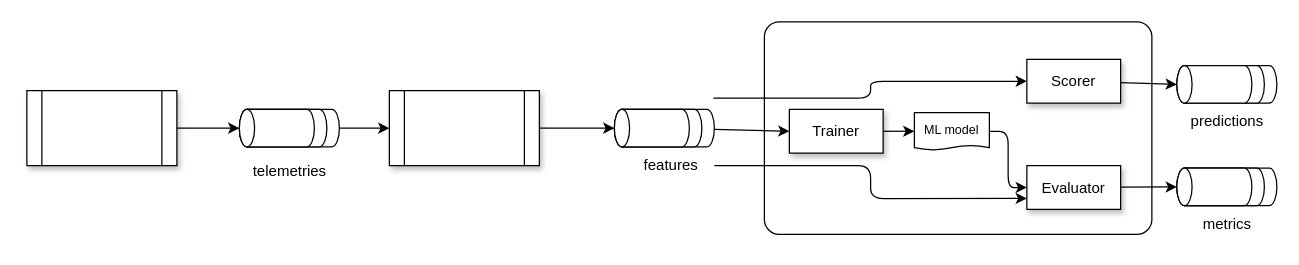
The diagram is 1299 pixels wide and 265 high, and some of its shapes have lost their labels. The shapes that lost their labels are listed below. From the top down, each one's centre as x and y in pixels, then its label:
(x=102, y=129): event generator
(x=465, y=129): feature extraction
